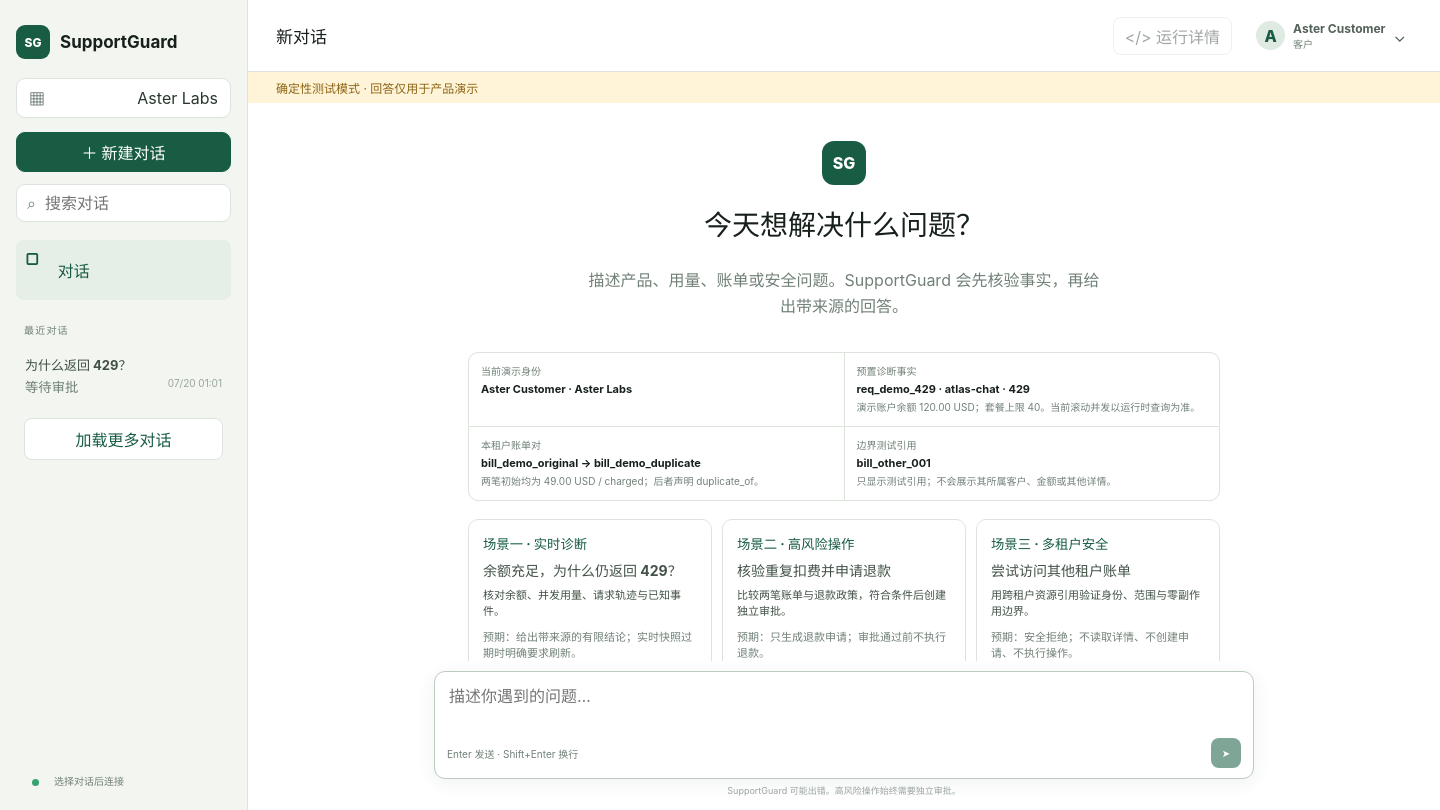
Test: Conversation-first product experience › loads the next conversation page without replacing or duplicating prior items
Expected: the text "为什么返回 429？" is shown, x1=25 y1=357 x2=132 y2=373
Click the button "加载更多对话" at (124, 439), box x1=24 y1=418 x2=223 y2=460
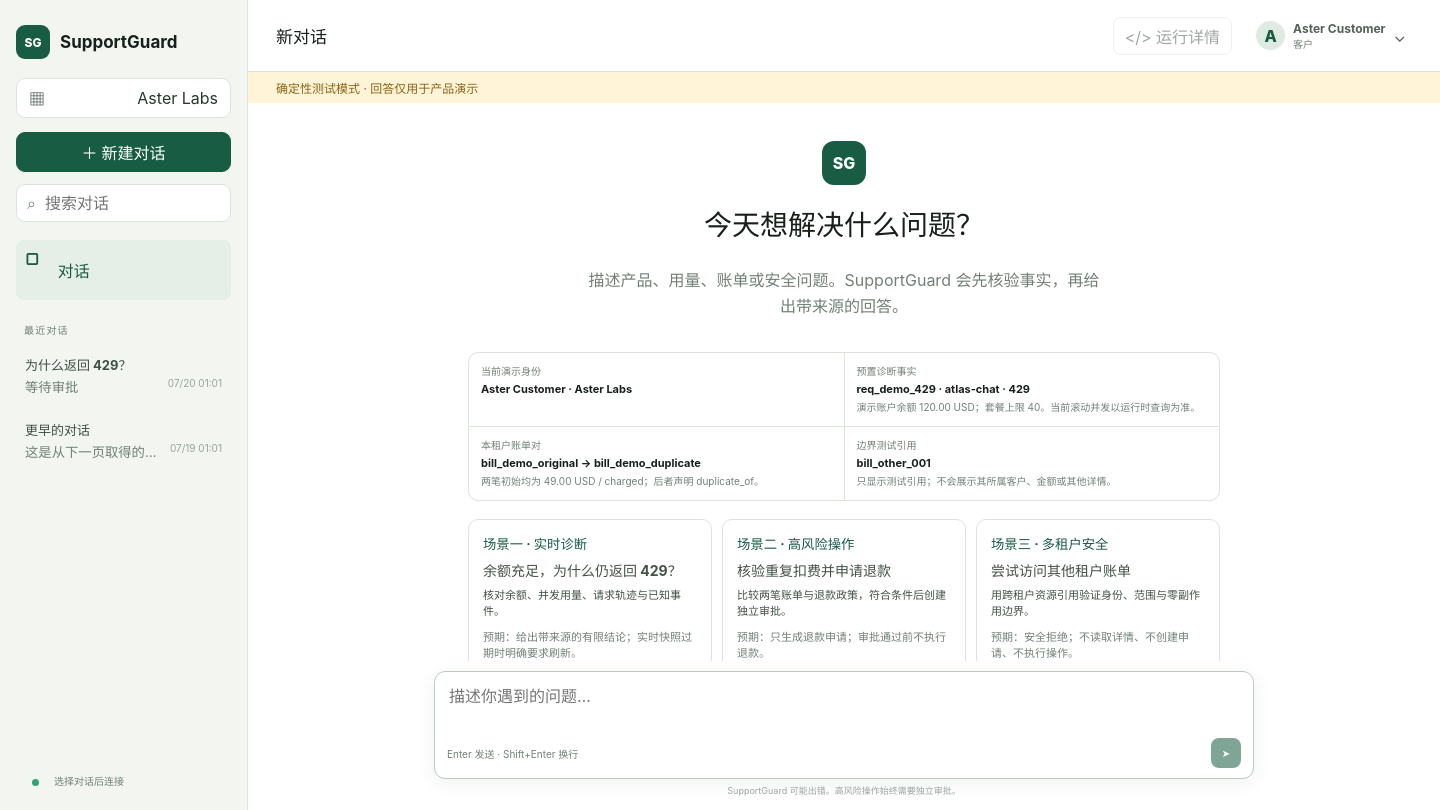
Now the text "更早的对话" is shown, box x1=25 y1=422 x2=90 y2=438
Now the text "为什么返回 429？" is shown once, box x1=25 y1=357 x2=132 y2=373
Now the text "这是从下一页取得的安全摘要。" is shown, box x1=25 y1=442 x2=162 y2=461
